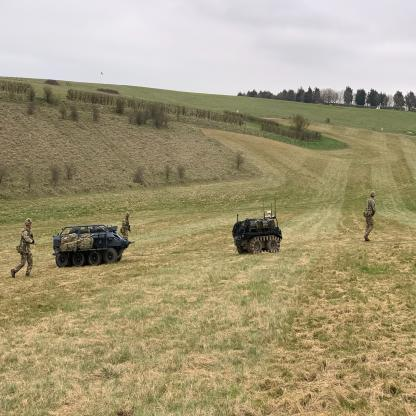Person: (12, 219, 36, 279), (365, 190, 378, 241), (120, 210, 130, 238)
UGV: (52, 224, 135, 266), (232, 214, 283, 254)
